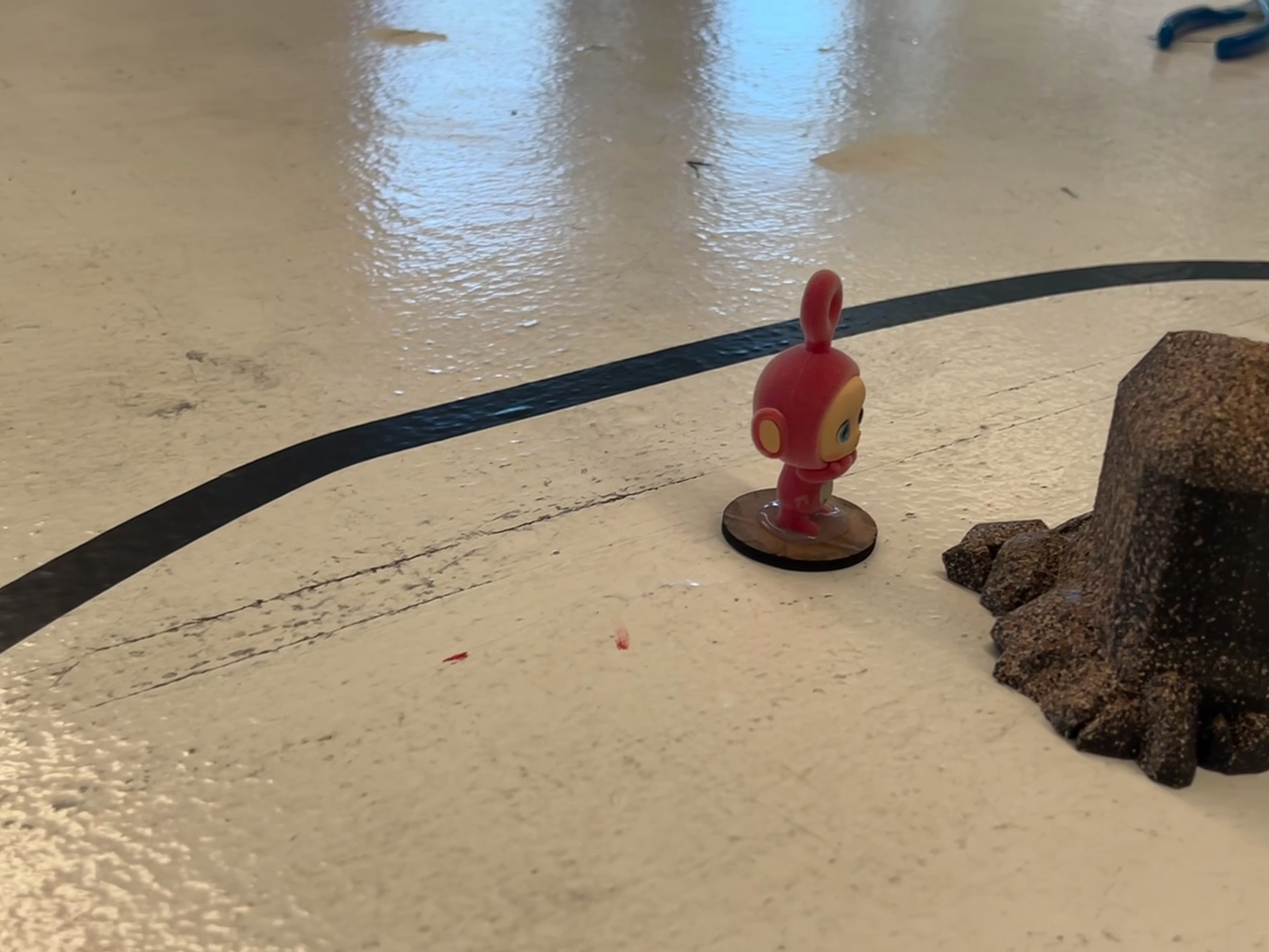teletubby: (750, 270, 865, 535)
